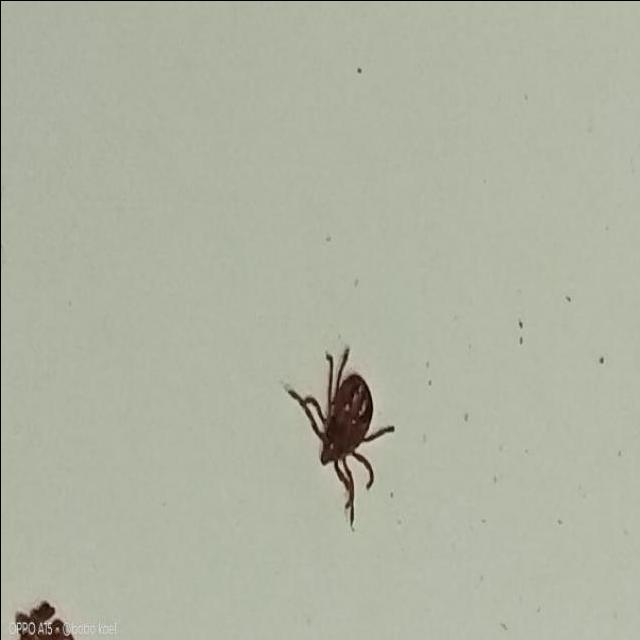Rhipicephalus Sanguineus-M: (281, 348, 395, 531)
